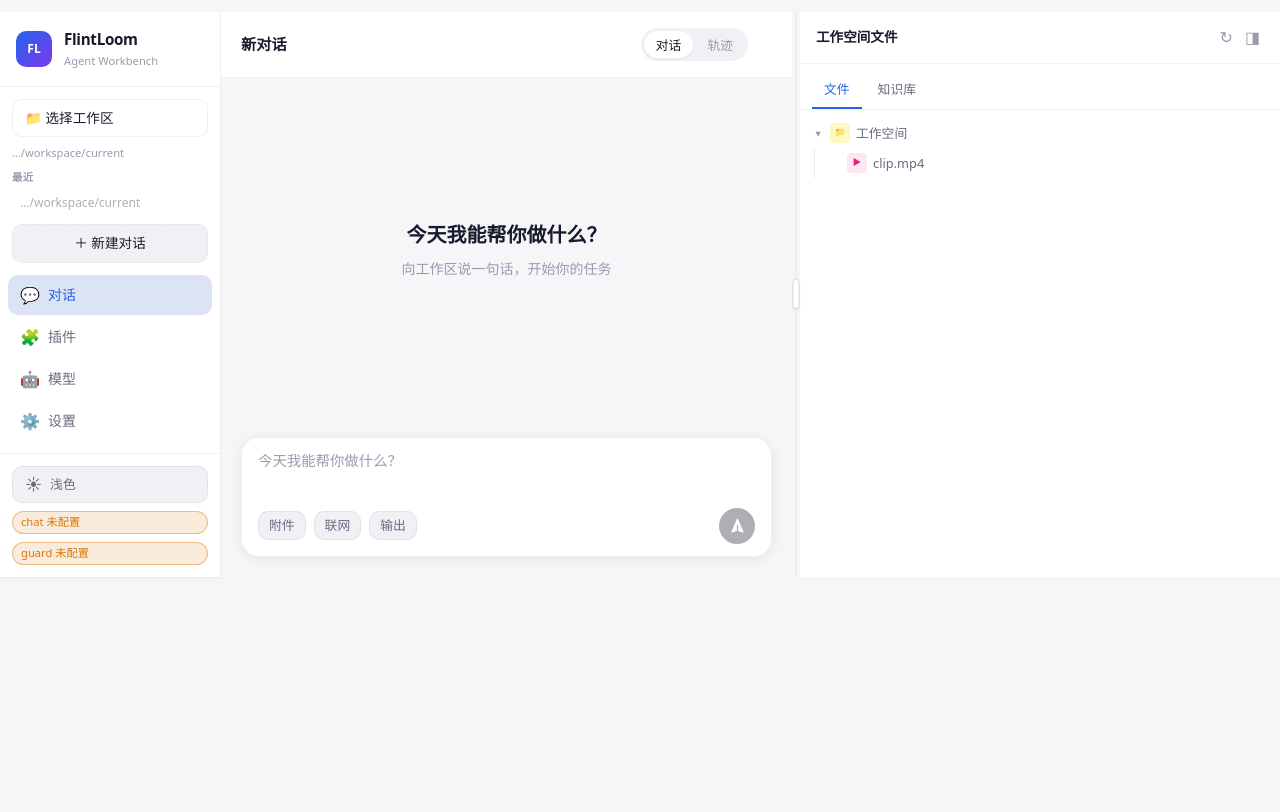
Test case: App › renders video files with a playable video element
Click the list item with class "file-label".
click(899, 163)  # box [821, 148, 1276, 178]
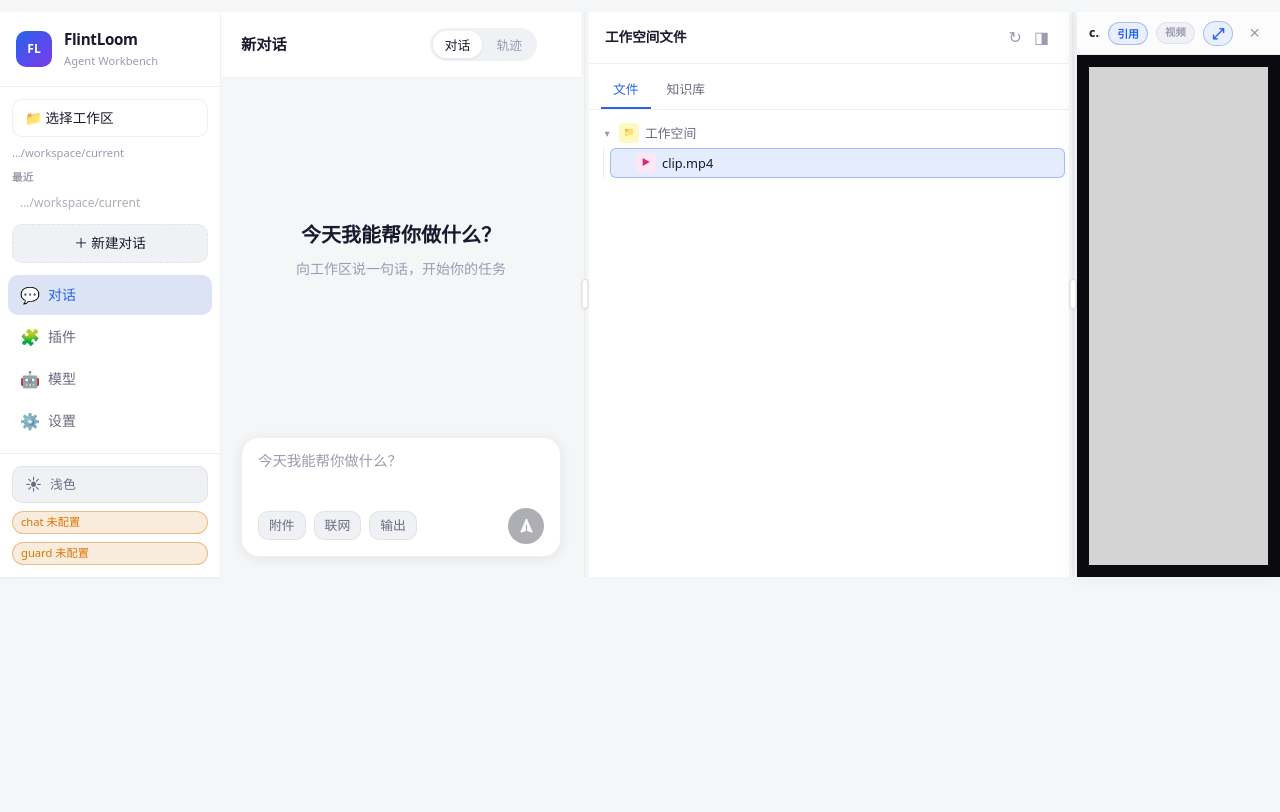
Result: the text "视频" is shown at [1156, 22, 1195, 44]
